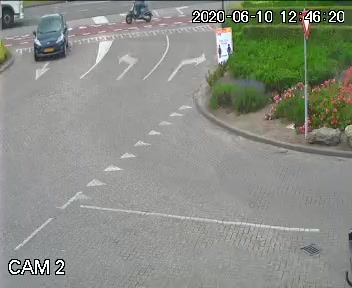car: (27, 14, 69, 66)
